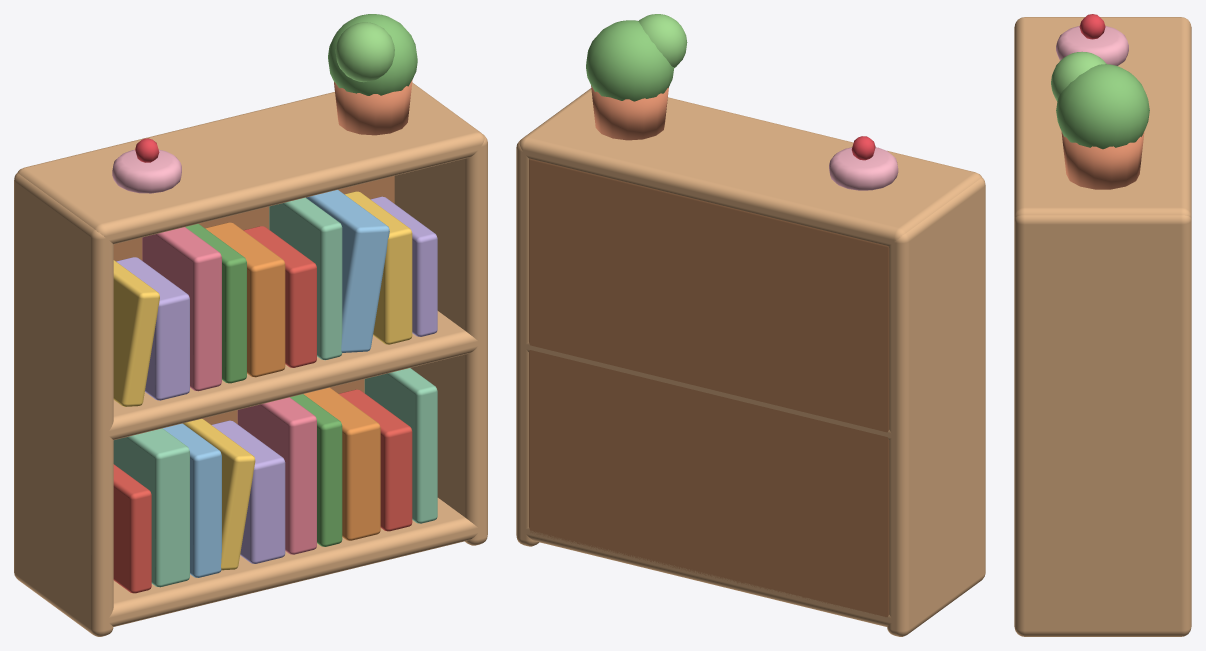
File: bookcase.glb
3 views of the same model, side by side, from view 1: azimuth 30°, elevation 25°; view 2: azimuth 150°, elevation 25°; view 3: azimuth 270°, elevation 25° (orthographic). The views are drawn at different scales.
Parts seen in each view (by area): view 1: Bookcase; view 2: Bookcase; view 3: Bookcase.
Boxes of the visible parts, left/top/right/bottom form: Bookcase: left=14, top=14, right=487, bottom=636; Bookcase: left=516, top=14, right=985, bottom=636; Bookcase: left=1014, top=14, right=1191, bottom=636.
Size of the model in its own units: 0.91 by 1.14 by 0.34.
